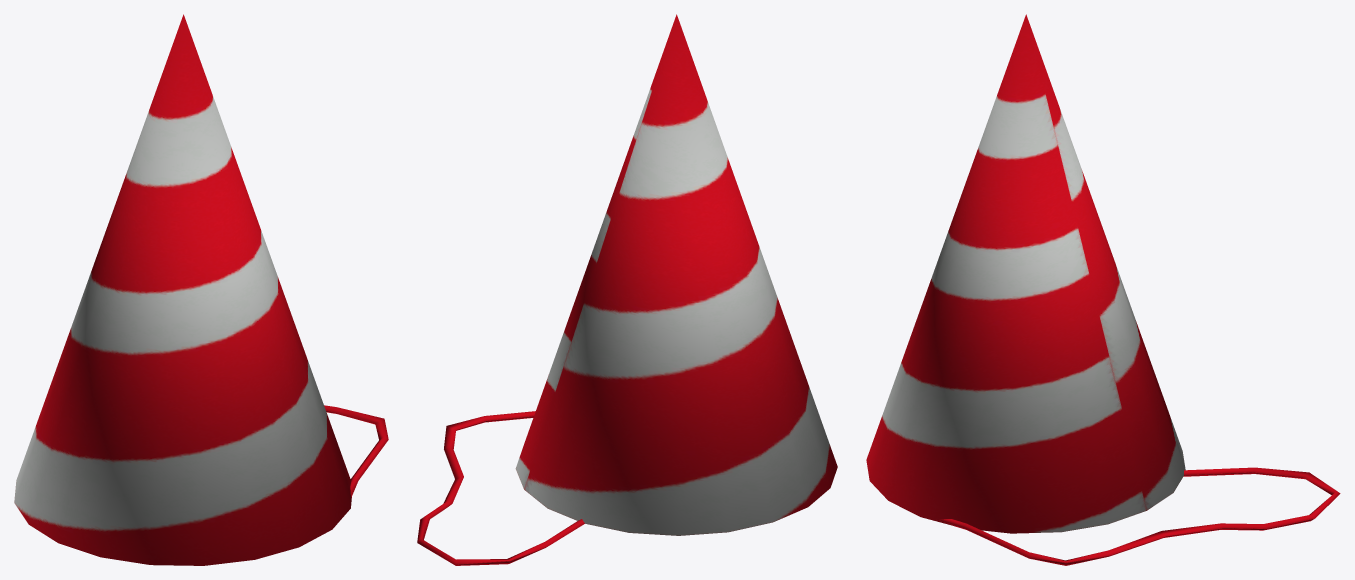
File: partyhat1_reference_006.fbx
The picture shows the model from 3 angles, left to right: view 1: azimuth 30°, elevation 25°; view 2: azimuth 150°, elevation 25°; view 3: azimuth 270°, elevation 25°; orthographic projection. The views are drawn at different scales.
Parts seen in each view (by area): view 1: partyhat1_reference.006; view 2: partyhat1_reference.006; view 3: partyhat1_reference.006.
Boxes of the visible parts, left/top/right/bottom form: partyhat1_reference.006: left=14, top=14, right=388, bottom=565; partyhat1_reference.006: left=417, top=14, right=837, bottom=565; partyhat1_reference.006: left=866, top=14, right=1340, bottom=565.
Size of the model in its own units: 31.59 by 39.53 by 37.32.
